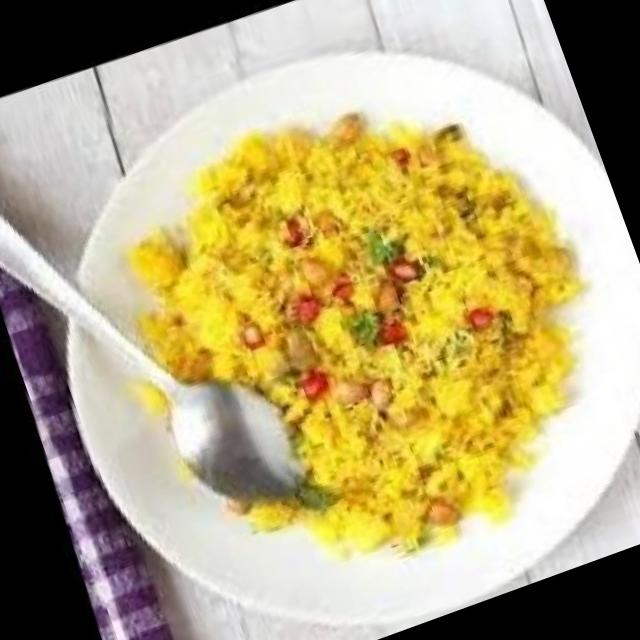poha: (52, 38, 640, 633)
